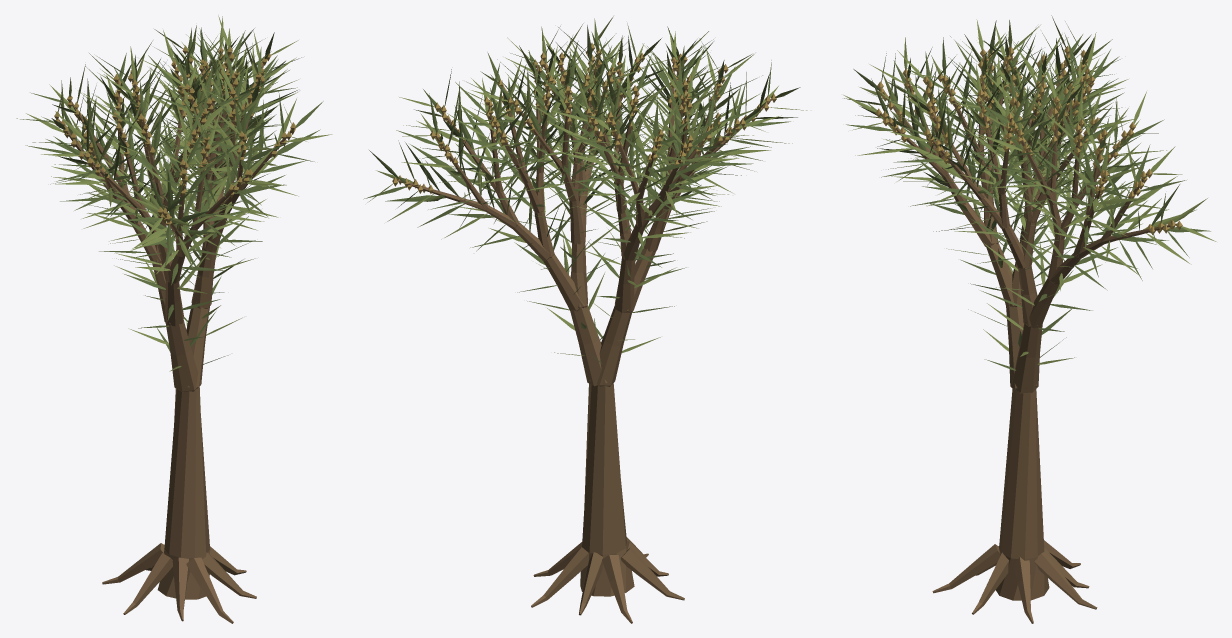
File: omphalophloios.glb
3 views of the same model, side by side, from view 1: azimuth 30°, elevation 25°; view 2: azimuth 150°, elevation 25°; view 3: azimuth 270°, elevation 25° (orthographic).
Parts seen in each view (by area): view 1: five-order-dichotomous-crown-elongated-fertile-axes; view 2: five-order-dichotomous-crown-elongated-fertile-axes; view 3: five-order-dichotomous-crown-elongated-fertile-axes.
Boxes of the visible parts, x1,y1,x2,y2 form: five-order-dichotomous-crown-elongated-fertile-axes: (16, 15, 332, 623); five-order-dichotomous-crown-elongated-fertile-axes: (363, 16, 807, 623); five-order-dichotomous-crown-elongated-fertile-axes: (843, 15, 1216, 623).
Size of the model in its own units: 1.83 by 3 by 1.88.
